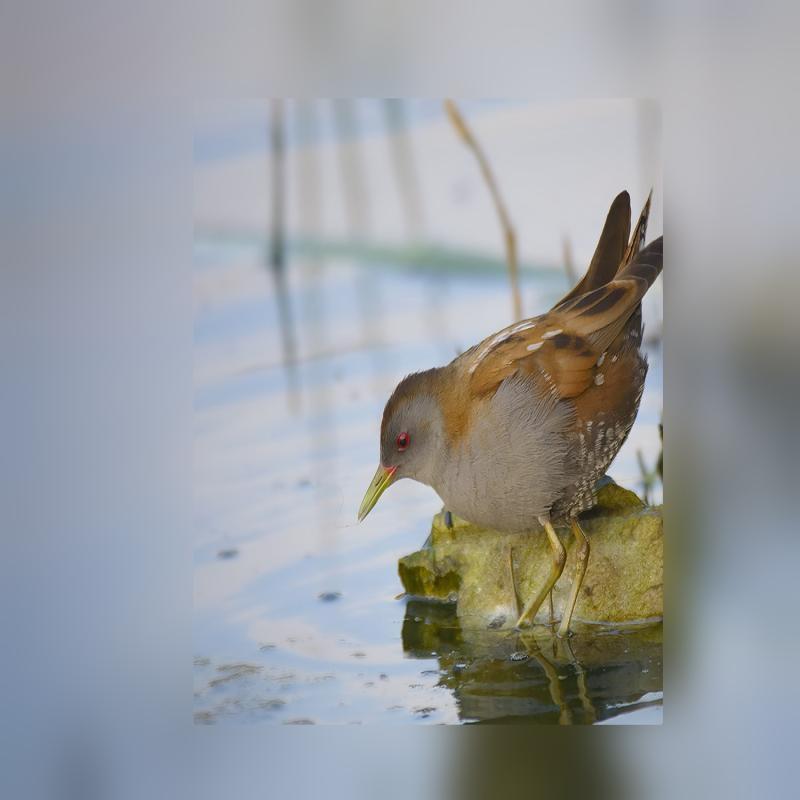little crake: (355, 178, 665, 566)
